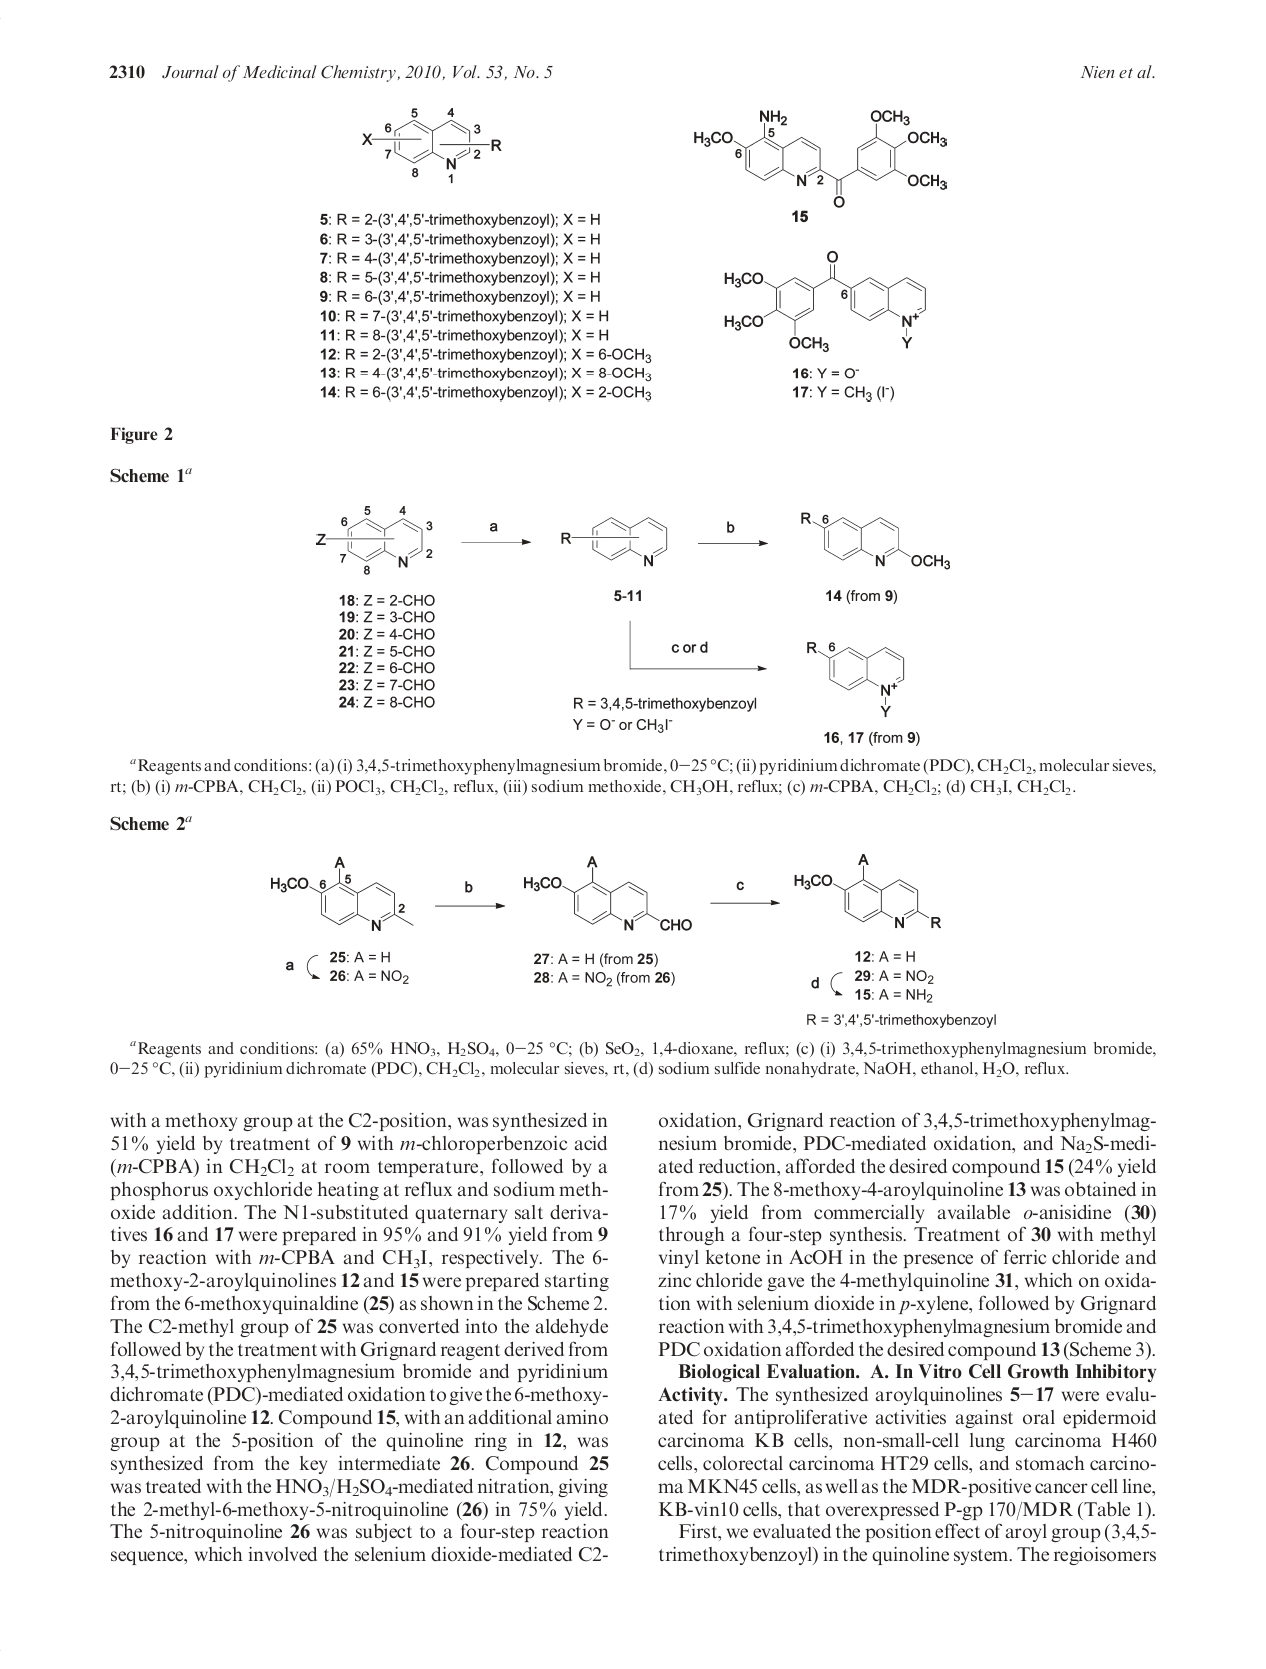exist_molecular: (692, 106, 949, 210), (722, 249, 930, 352), (523, 855, 692, 932), (794, 852, 943, 930), (270, 855, 416, 934), (360, 106, 505, 184), (798, 509, 952, 571), (315, 505, 434, 576), (805, 638, 906, 719), (560, 515, 668, 569)
